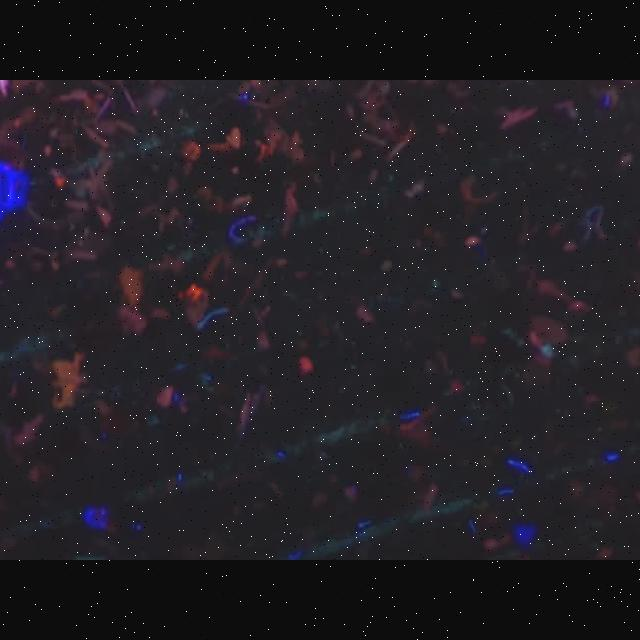Fragment: (52, 352, 86, 409)
